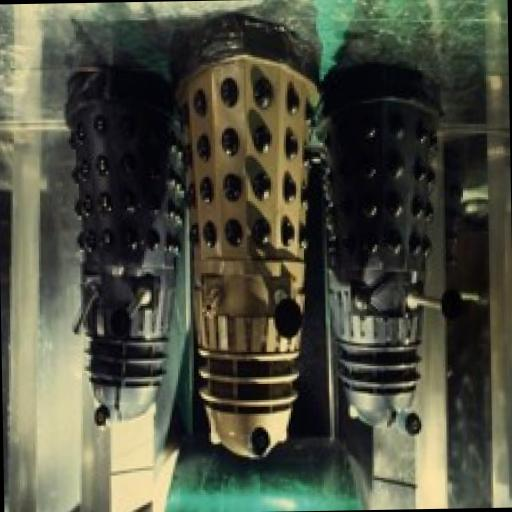dalek: (171, 18, 326, 462), (312, 71, 462, 438), (62, 72, 188, 429)
